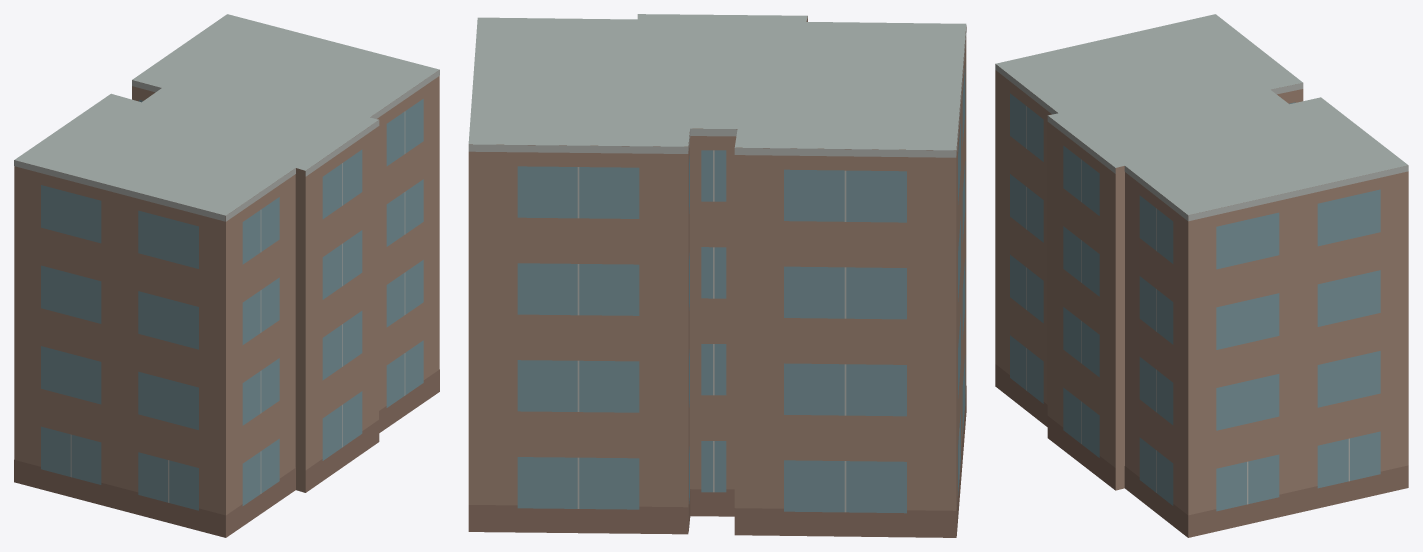
File: survey-upis-32719362.glb
3 views of the same model, side by side, from view 1: azimuth 30°, elevation 25°; view 2: azimuth 150°, elevation 25°; view 3: azimuth 270°, elevation 25° (orthographic). The views are drawn at different scales.
Parts seen in each view (by area): view 1: survey-upis-32719362.tmp; view 2: survey-upis-32719362.tmp; view 3: survey-upis-32719362.tmp.
Boxes of the visible parts, x1,y1,x2,y2 form: survey-upis-32719362.tmp: (14,14,439,537); survey-upis-32719362.tmp: (468,14,966,537); survey-upis-32719362.tmp: (995,14,1408,537).
Size of the model in its own units: 17.24 by 12.88 by 14.96.
